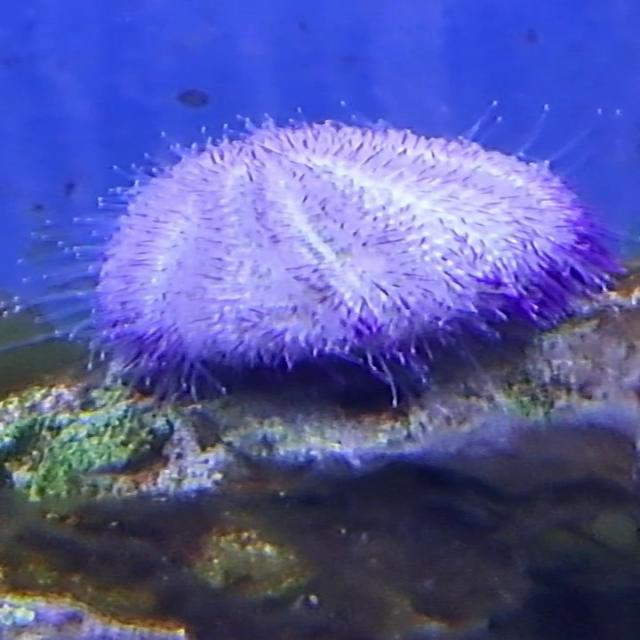Deniz Kestanesi: (35, 104, 640, 402)
